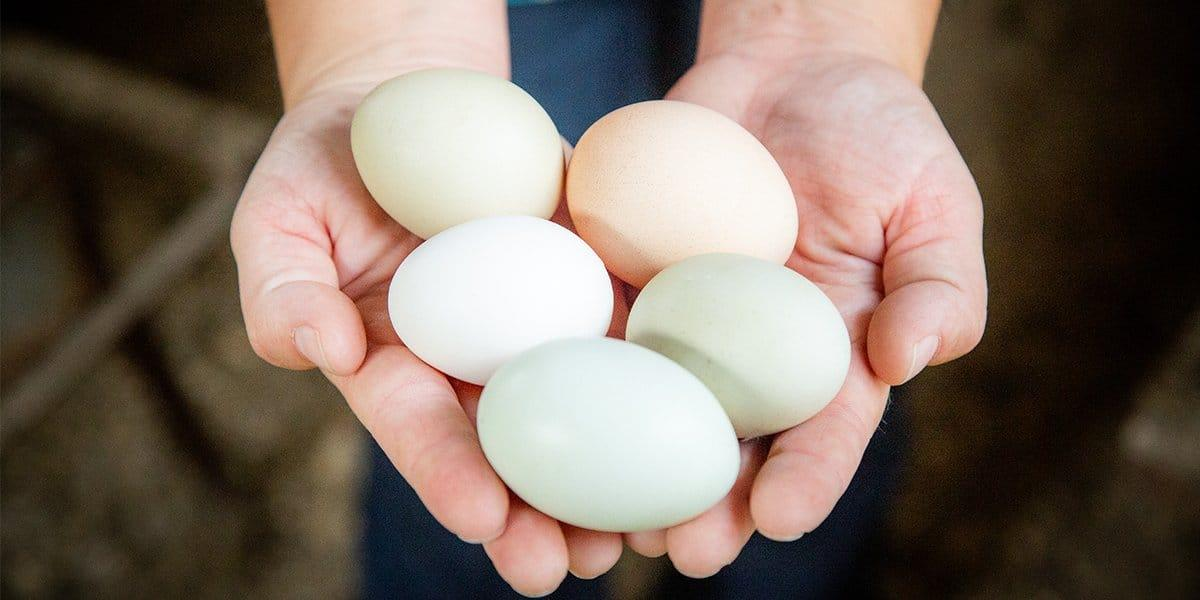egg: (470, 330, 750, 540), (372, 194, 626, 394), (568, 88, 816, 292), (622, 248, 872, 436), (348, 62, 570, 238)
